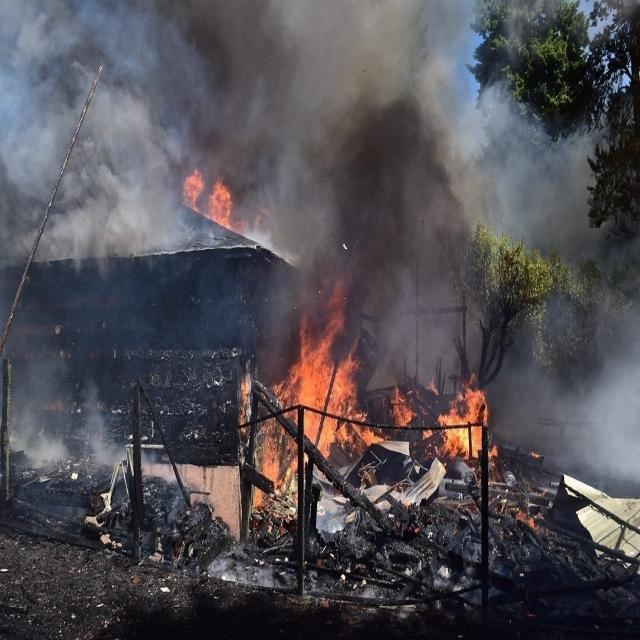Fire: (215, 333, 381, 541), (436, 380, 494, 460), (179, 166, 237, 236), (385, 387, 421, 444)
Smoke: (3, 0, 498, 383), (509, 260, 640, 503)
